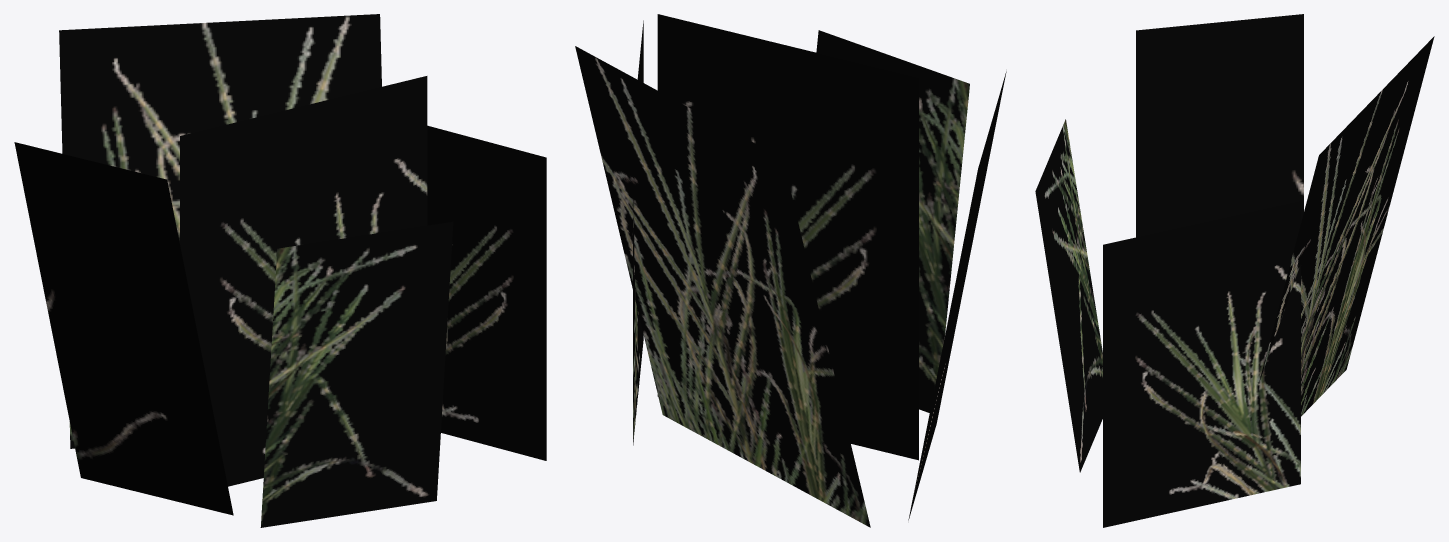
The model's file is grass_02.FBX.
3 views of the same model, side by side, from view 1: azimuth 30°, elevation 25°; view 2: azimuth 150°, elevation 25°; view 3: azimuth 270°, elevation 25° (orthographic). The views are drawn at different scales.
Visible parts, largest first — view 1: grass_02; view 2: grass_02; view 3: grass_02.
Part boxes in pixels (bbox=[...]): grass_02: bbox=[14, 14, 546, 527]; grass_02: bbox=[575, 14, 1006, 527]; grass_02: bbox=[1035, 14, 1434, 527].
Bounding box in the file's own units: 13.85 × 11.99 × 12.09.
